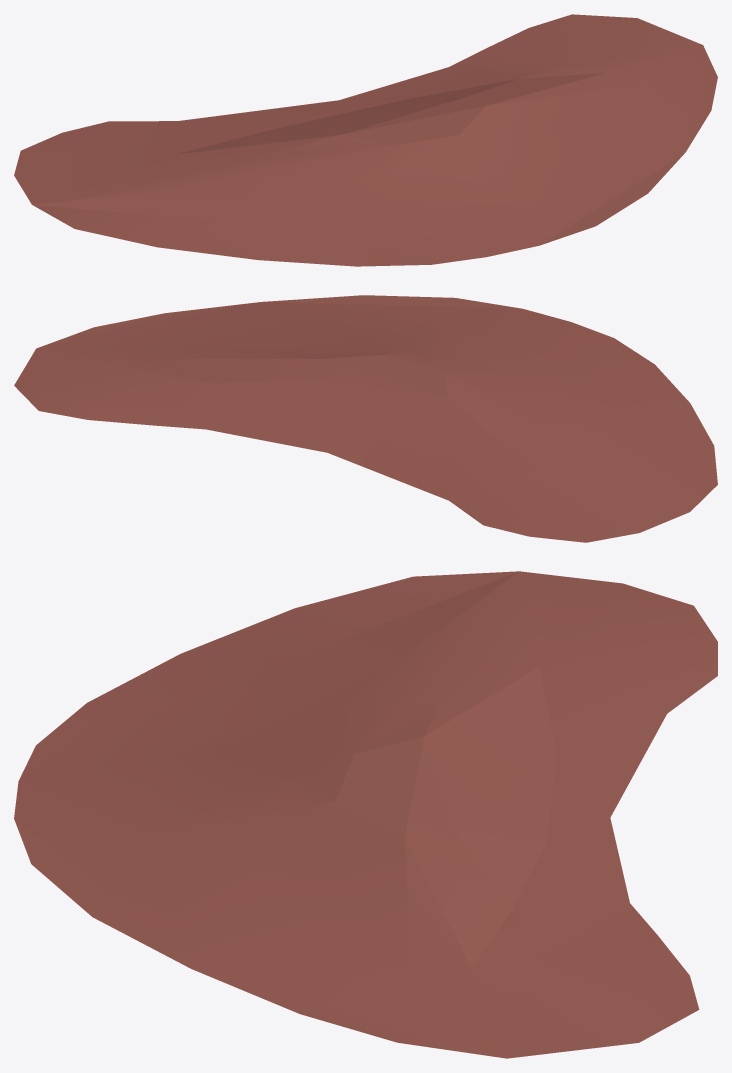
File: entity113416.glb
3 renders of one model, top to bottom at view 1: azimuth 30°, elevation 25°; view 2: azimuth 150°, elevation 25°; view 3: azimuth 270°, elevation 25°, orthographic. The views are drawn at different scales.
Visible parts, largest first — view 1: node_SM_Env_Ground_04 (1); view 2: node_SM_Env_Ground_04 (1); view 3: node_SM_Env_Ground_04 (1).
Boxes of the visible parts, <box> form: node_SM_Env_Ground_04 (1): <box>14,14,717,266</box>; node_SM_Env_Ground_04 (1): <box>14,295,717,542</box>; node_SM_Env_Ground_04 (1): <box>14,571,717,1058</box>.
Size of the model in its own units: 64.38 by 2.35 by 39.31.
1 material, 1 textured.
